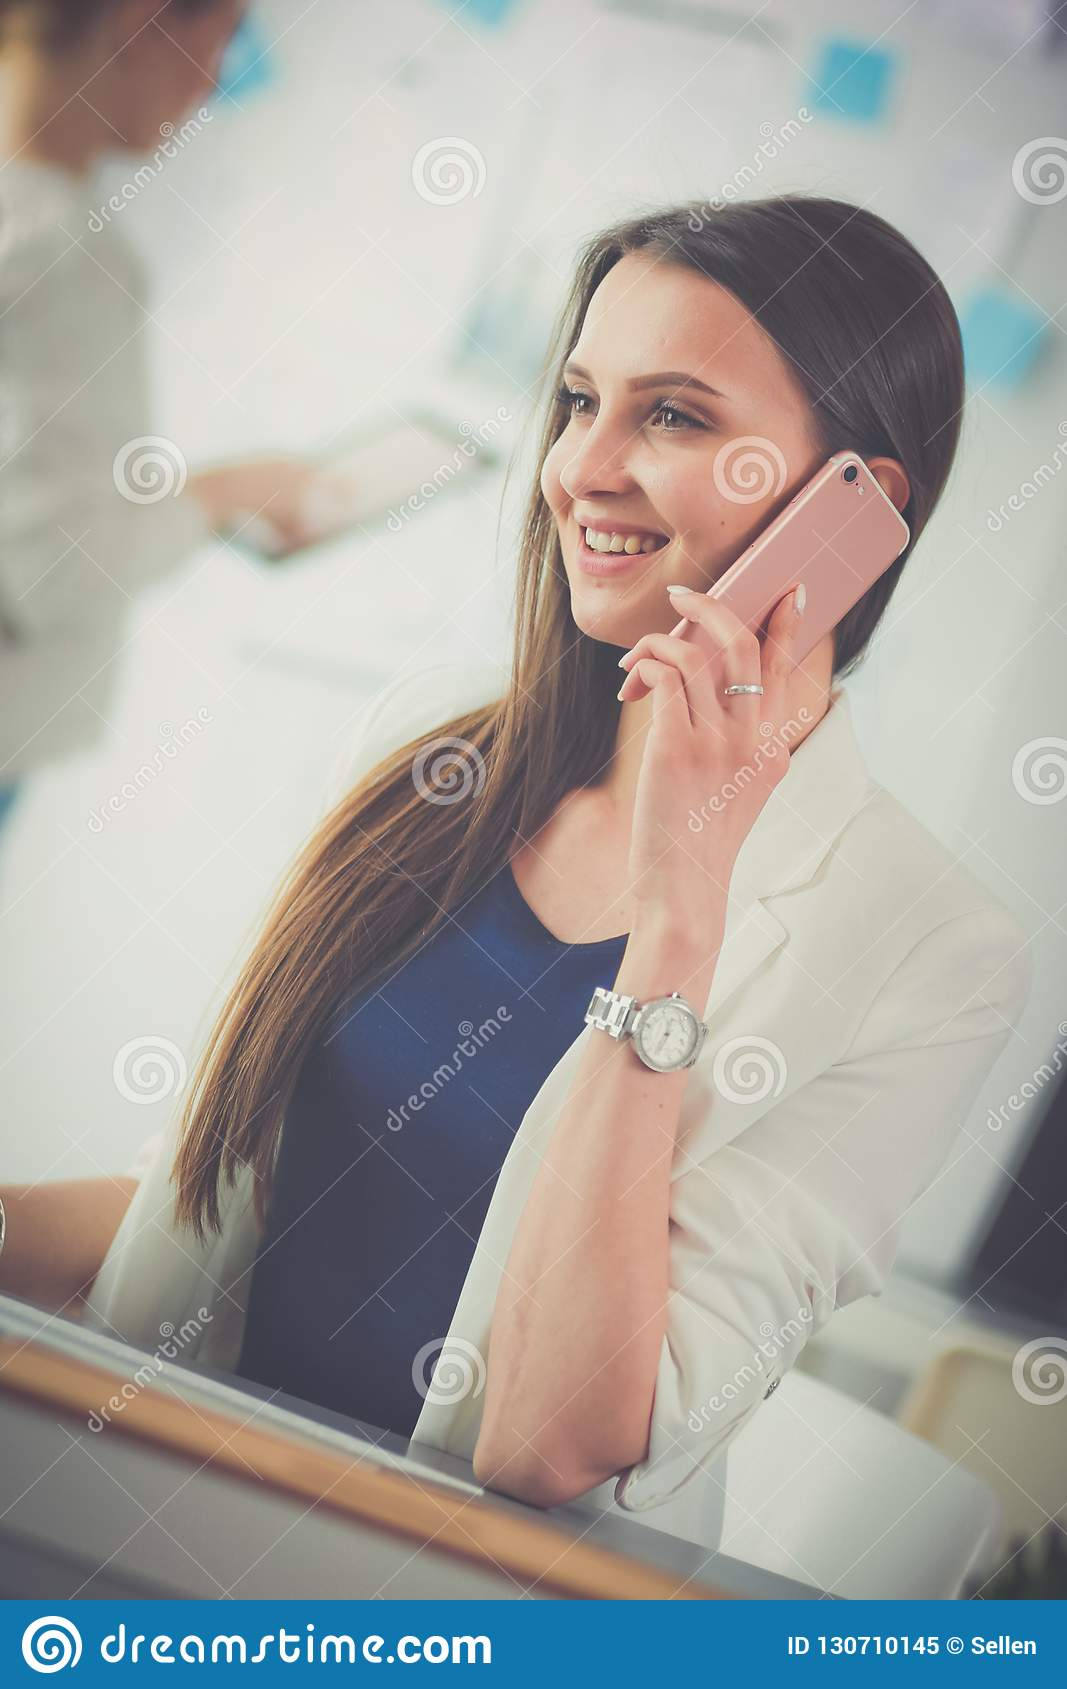phone: (653, 454, 915, 757)
talk: (541, 341, 917, 926)
